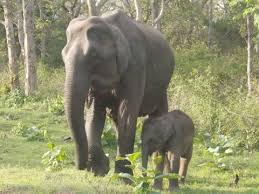Elephant: (45, 11, 177, 179)
